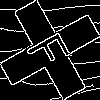F: (25, 25, 80, 73)
